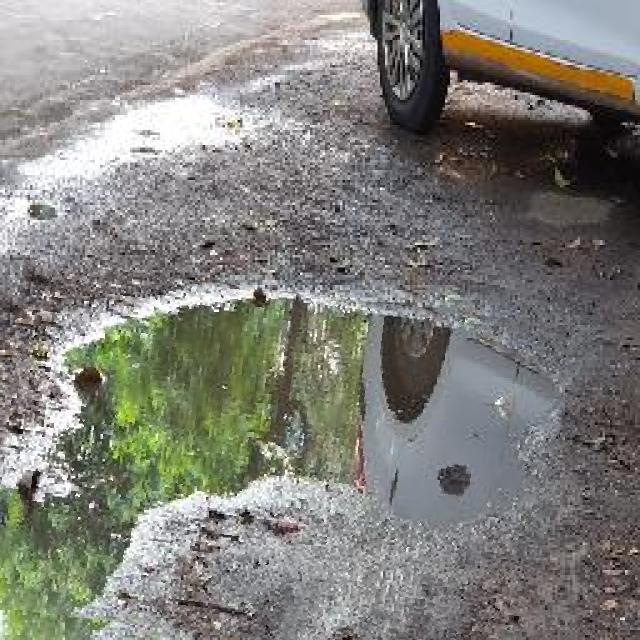puddle: (1, 276, 563, 640)
